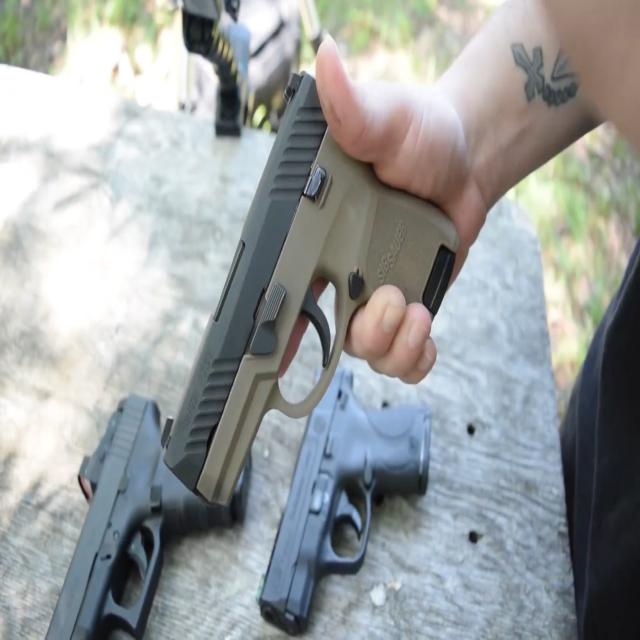handgun: (162, 72, 456, 484), (39, 354, 247, 640), (252, 366, 447, 618)
